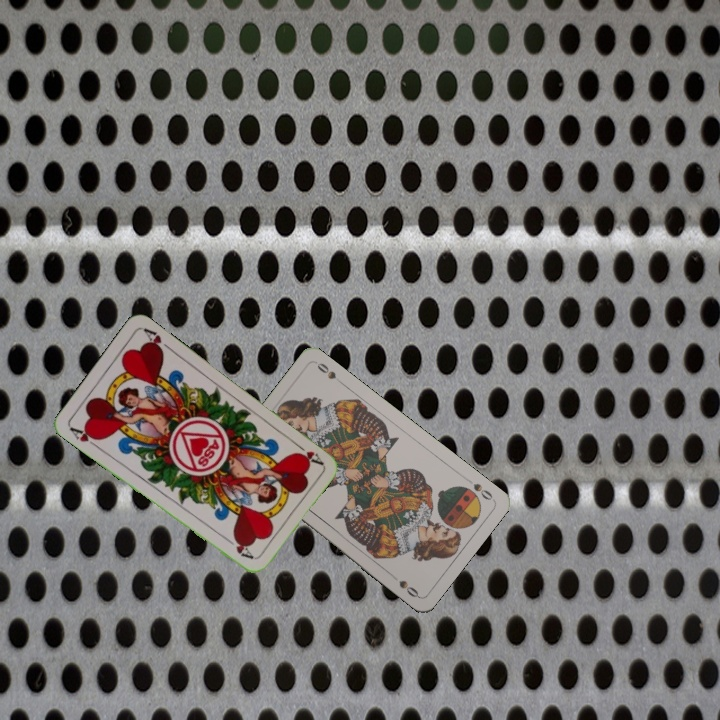HA: (290, 437, 325, 467), (66, 423, 103, 451)
SO: (461, 474, 496, 503)
